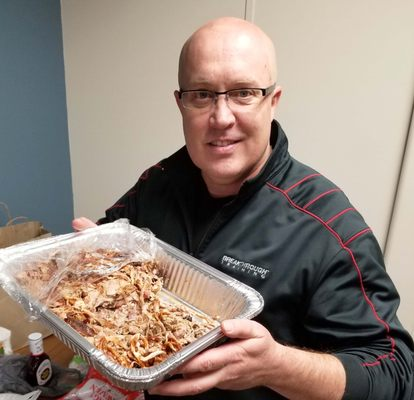sandwich: (43, 244, 258, 381)
